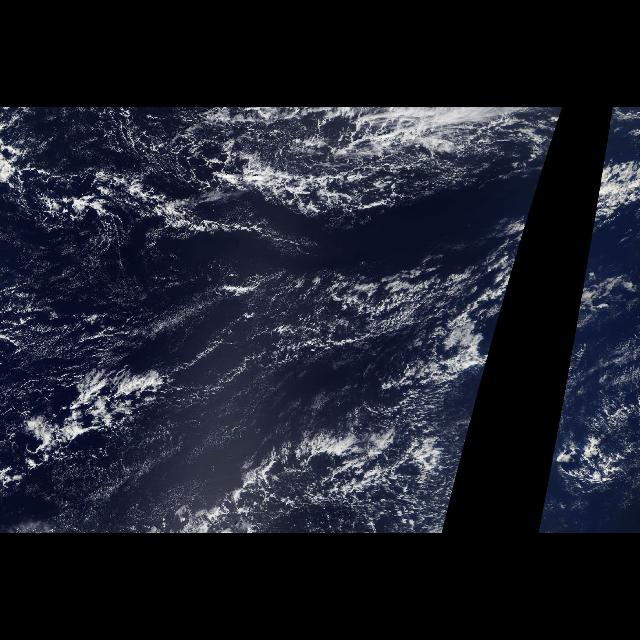Gravel: (3, 110, 447, 244), (198, 419, 460, 531), (236, 266, 480, 380)
Sugar: (0, 226, 242, 378)
